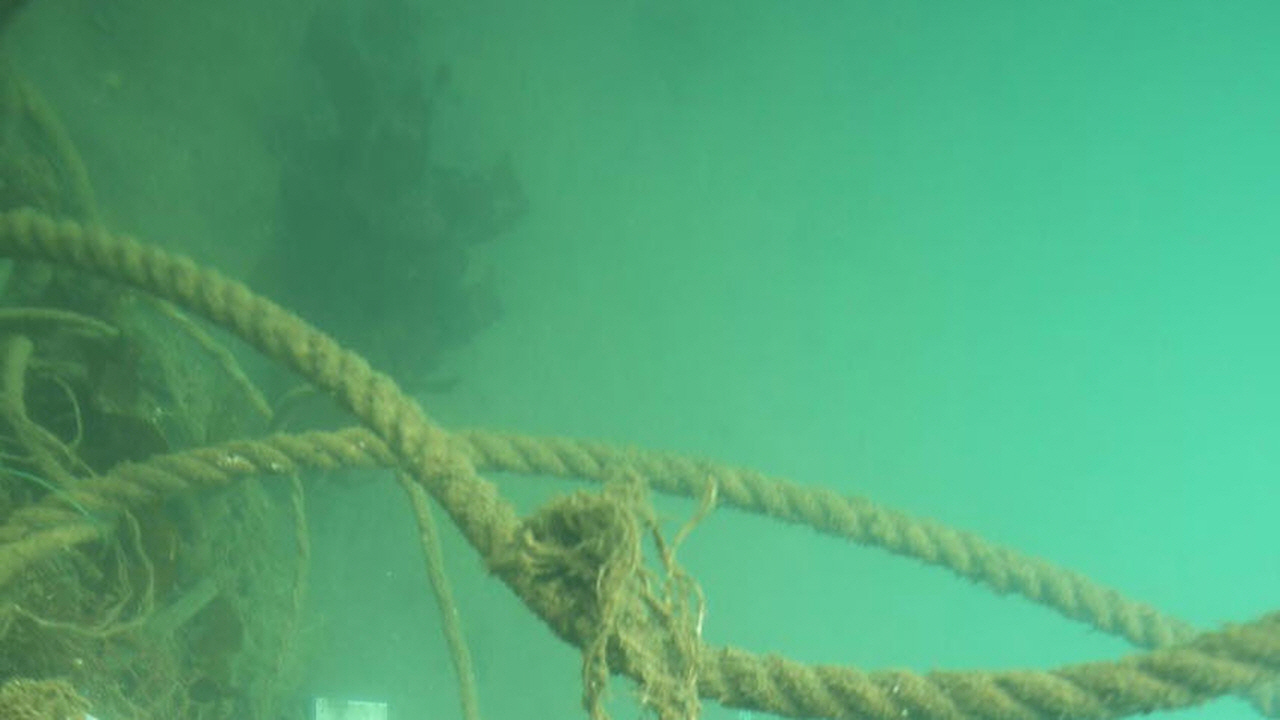bundle of ropes: (0, 204, 1280, 720)
